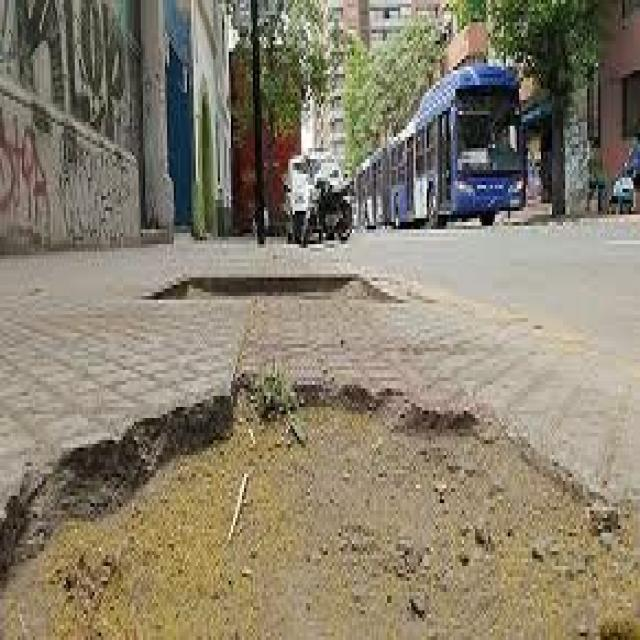Pothole: (15, 348, 640, 632), (143, 255, 427, 355)
